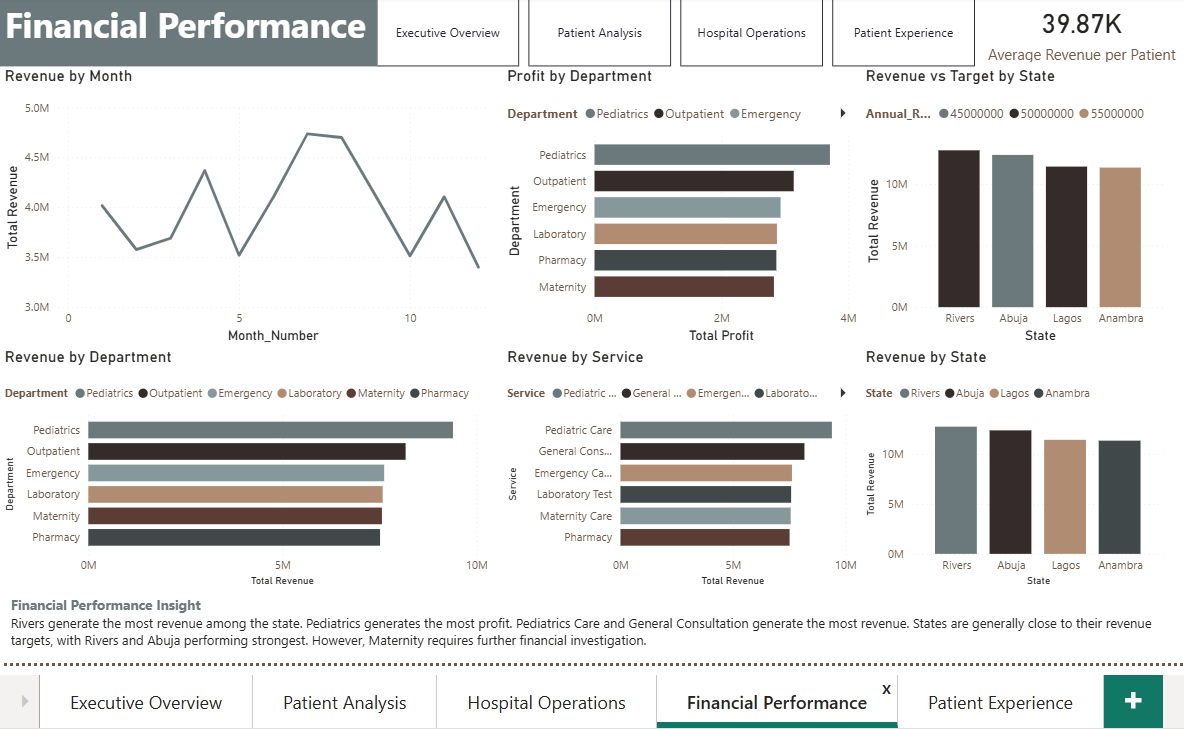

The dashboard page shown, as its layout file describes it:
{"tool":"powerbi","page":{"name":"Financial Performance","canvas":[1280,720],"ordinal":3},"visuals":[{"type":"columnChart","title":"Revenue by State","fields":{"Category":["State_Targets.State"],"Y":["Date_Table.Total Revenue"],"Series":["State_Targets.State"]},"box":[929.4,378.9,331.9,262.3],"z":0},{"type":"barChart","title":"Revenue by Department","fields":{"Category":["Patient_Visits.Department"],"Y":["Date_Table.Total Revenue"],"Series":["Patient_Visits.Department"]},"box":[0,378.9,531.1,262.3],"z":1000},{"type":"barChart","title":"Revenue by Service","fields":{"Category":["Patient_Visits.Service"],"Y":["Date_Table.Total Revenue"],"Series":["Patient_Visits.Service"]},"box":[542.4,378.9,387,262.3],"z":2000},{"type":"barChart","title":"Profit by Department","fields":{"Category":["Patient_Visits.Department"],"Y":["Date_Table.Total Profit"],"Series":["Patient_Visits.Department"]},"box":[542.4,76.1,387,302.8],"z":3000},{"type":"lineChart","title":"Revenue by Month","fields":{"Category":["Date_Table.Month_Number"],"Y":["Date_Table.Total Revenue"]},"box":[0,76.1,531.1,302.8],"z":4000},{"type":"columnChart","title":"Revenue vs Target by State","fields":{"Category":["State_Targets.State"],"Y":["Date_Table.Total Revenue"],"Series":["State_Targets.Annual_Revenue_Target_NGN"]},"box":[929.4,76.1,331.9,302.8],"z":5000},{"type":"textbox","box":[0,0,406.4,76.1],"z":6000},{"type":"card","fields":{"Values":["Date_Table.Average Revenue per Patient"]},"box":[1054.1,0,226.7,76.1],"z":7000},{"type":"textbox","box":[6.5,641.2,1254.9,79.3],"z":7001},{"type":"pageNavigator","box":[406.4,0,647.7,76.1],"z":7002}]}

Visuals, with their boxes on the page's 1280x720 design canvas (x1, y1, x2, y2). These are canvas units, not pixel positions in the 1184x729 screenshot, which may show the page scaled, cropped or inside an application window:
"Revenue by State" columnChart: (929, 379, 1261, 641)
"Revenue by Department" barChart: (0, 379, 531, 641)
"Revenue by Service" barChart: (542, 379, 929, 641)
"Profit by Department" barChart: (542, 76, 929, 379)
"Revenue by Month" lineChart: (0, 76, 531, 379)
"Revenue vs Target by State" columnChart: (929, 76, 1261, 379)
textbox: (0, 0, 406, 76)
card - Date_Table.Average Revenue per Patient: (1054, 0, 1281, 76)
textbox: (6, 641, 1261, 720)
pageNavigator: (406, 0, 1054, 76)
